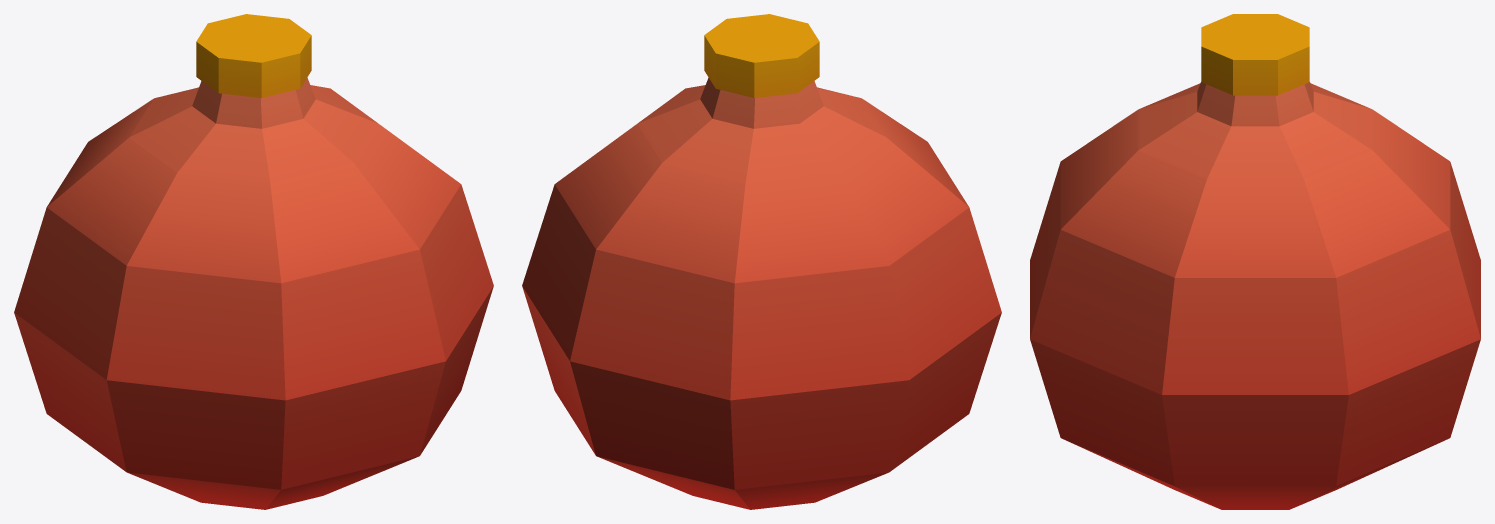
The model's file is ball red.fbx.
3 renders of one model, left to right at view 1: azimuth 30°, elevation 25°; view 2: azimuth 150°, elevation 25°; view 3: azimuth 270°, elevation 25°, orthographic.
Parts seen in each view (by area): view 1: ball red; view 2: ball red; view 3: ball red.
Boxes of the visible parts, <box> form: ball red: <box>14,14,493,509</box>; ball red: <box>522,14,1001,509</box>; ball red: <box>1030,14,1480,509</box>.
Bounding box in the file's own units: 26.53 × 29.42 × 26.53.
